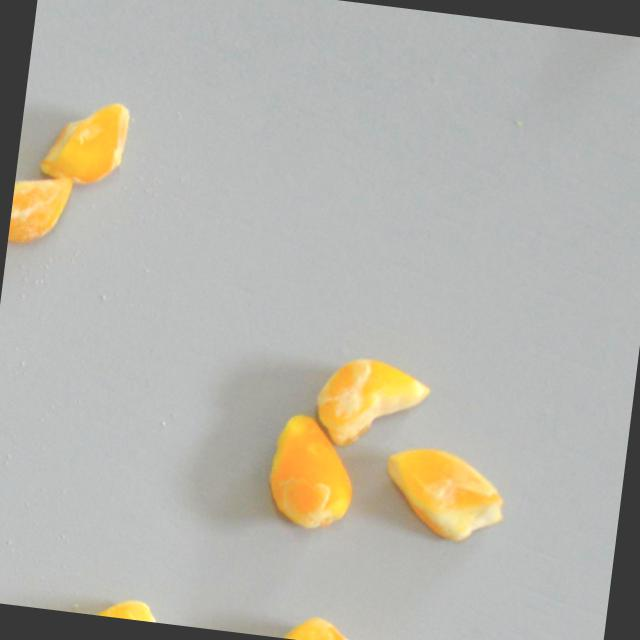dañado: (370, 434, 516, 551), (308, 348, 438, 457), (260, 406, 364, 539), (32, 85, 135, 193), (7, 165, 79, 251), (40, 581, 170, 624), (259, 608, 403, 640)
